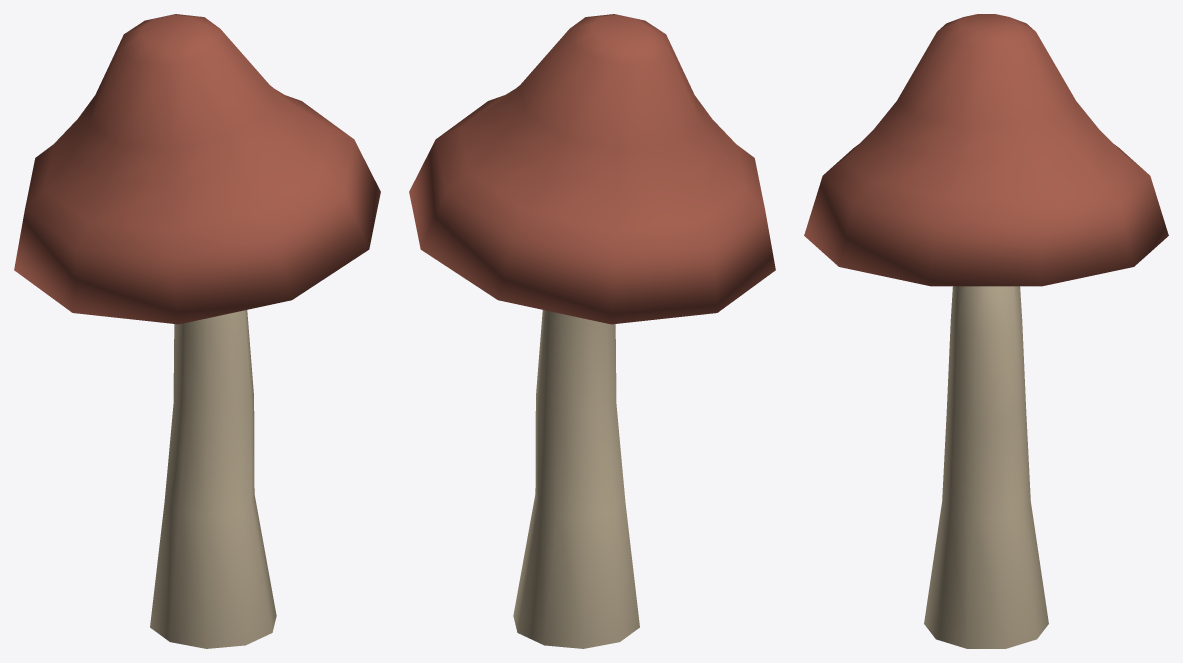
File: Mushroom_LightBrown_Cone_2.fbx
The picture shows the model from 3 angles, left to right: view 1: azimuth 30°, elevation 25°; view 2: azimuth 150°, elevation 25°; view 3: azimuth 270°, elevation 25°; orthographic projection. The views are drawn at different scales.
Visible parts, largest first — view 1: Cylinder.290, Cylinder.289; view 2: Cylinder.290, Cylinder.289; view 3: Cylinder.290, Cylinder.289.
Boxes of the visible parts, x1,y1,x2,y2 form: Cylinder.290: (14, 14, 380, 324); Cylinder.289: (150, 310, 276, 648); Cylinder.290: (409, 14, 775, 324); Cylinder.289: (513, 310, 639, 648); Cylinder.290: (804, 14, 1168, 286); Cylinder.289: (924, 286, 1048, 648).
Bounding box in the file's own units: 71.88 × 135 × 76.34.
